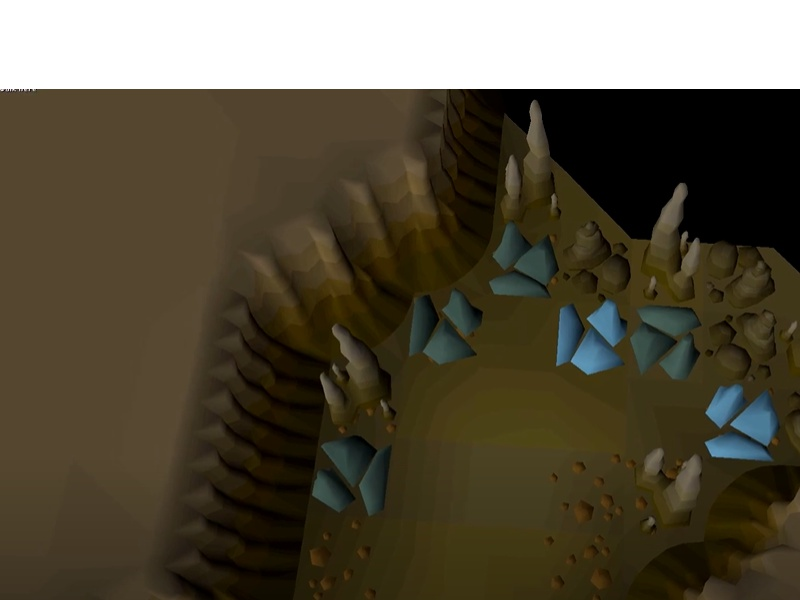adamant: (310, 432, 397, 522), (405, 287, 486, 368), (628, 299, 704, 384), (486, 218, 562, 302)
rune: (701, 378, 783, 465), (552, 294, 631, 379)
